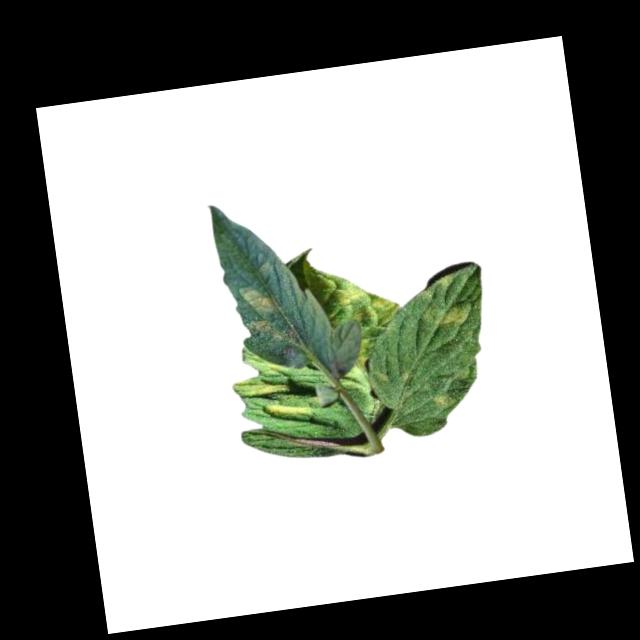Leaf_Mold: (319, 272, 412, 373), (230, 368, 291, 404), (416, 299, 475, 332), (261, 396, 315, 427), (239, 282, 277, 319), (429, 388, 457, 410)
